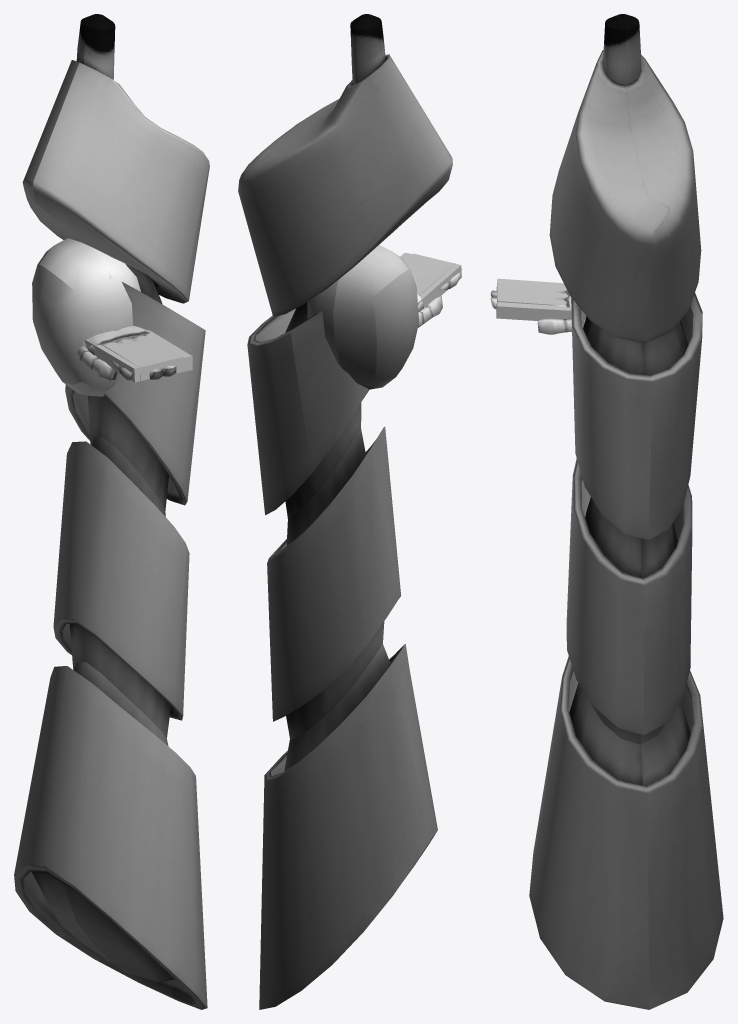
Rendered from a-series-m01.obj.
3 renders of one model, left to right at view 1: azimuth 30°, elevation 25°; view 2: azimuth 150°, elevation 25°; view 3: azimuth 270°, elevation 25°, orthographic. The views are drawn at different scales.
Parts seen in each view (by area): view 1: Body, BodyGlow, HeadGlow, HandLeftCol, HandLeft, HandRightCol, HandRight; view 2: Body, BodyGlow, HeadGlow, HandLeftCol, HandLeft; view 3: Body, BodyGlow, HandRightCol, HandLeftCol, HandRight.
Boxes of the visible parts, bbox=[...] form: Body: bbox=[14, 60, 209, 1009]; BodyGlow: bbox=[32, 14, 174, 982]; HeadGlow: bbox=[32, 238, 140, 396]; HandLeftCol: bbox=[85, 336, 183, 382]; HandLeft: bbox=[76, 331, 163, 380]; HandRightCol: bbox=[101, 330, 192, 381]; HandRight: bbox=[118, 326, 176, 376]; Body: bbox=[238, 54, 452, 1009]; BodyGlow: bbox=[284, 14, 390, 771]; HeadGlow: bbox=[307, 245, 418, 389]; HandLeftCol: bbox=[404, 253, 461, 306]; HandLeft: bbox=[417, 272, 460, 327]; Body: bbox=[529, 50, 723, 1009]; BodyGlow: bbox=[569, 14, 690, 786]; HandRightCol: bbox=[496, 281, 571, 320]; HandLeftCol: bbox=[497, 278, 566, 305]; HandRight: bbox=[490, 292, 585, 334].
Size of the model in its own units: 0.2994 by 1.53 by 0.3395.
3 materials, 2 textured.
